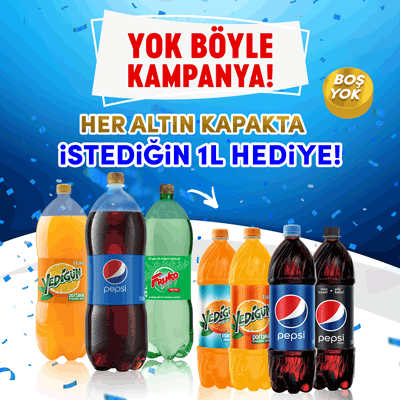pepsi: (273, 291, 307, 327), (275, 293, 307, 327), (316, 298, 346, 330), (316, 298, 346, 326), (101, 259, 126, 283)
